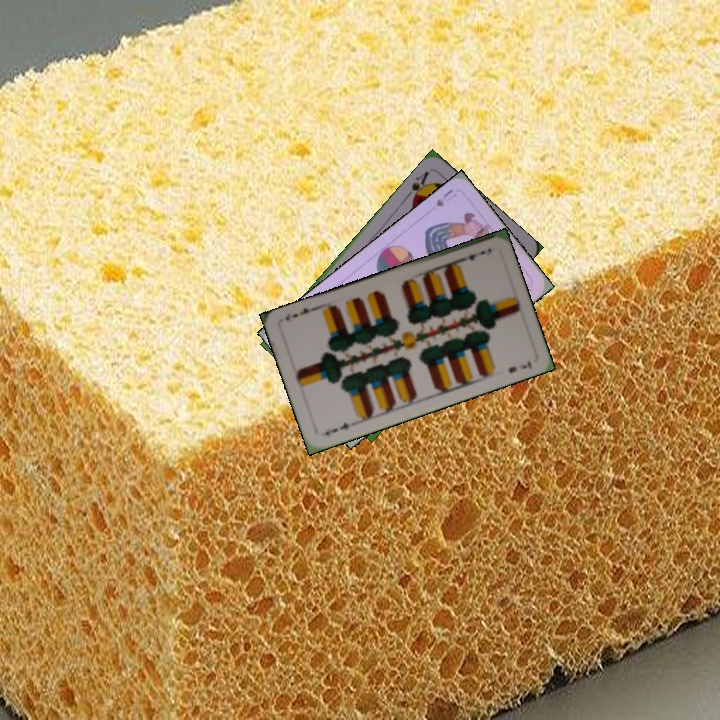E7: (321, 418, 353, 440), (456, 246, 488, 265)
SA: (402, 167, 432, 205)
SU: (432, 185, 459, 209)
